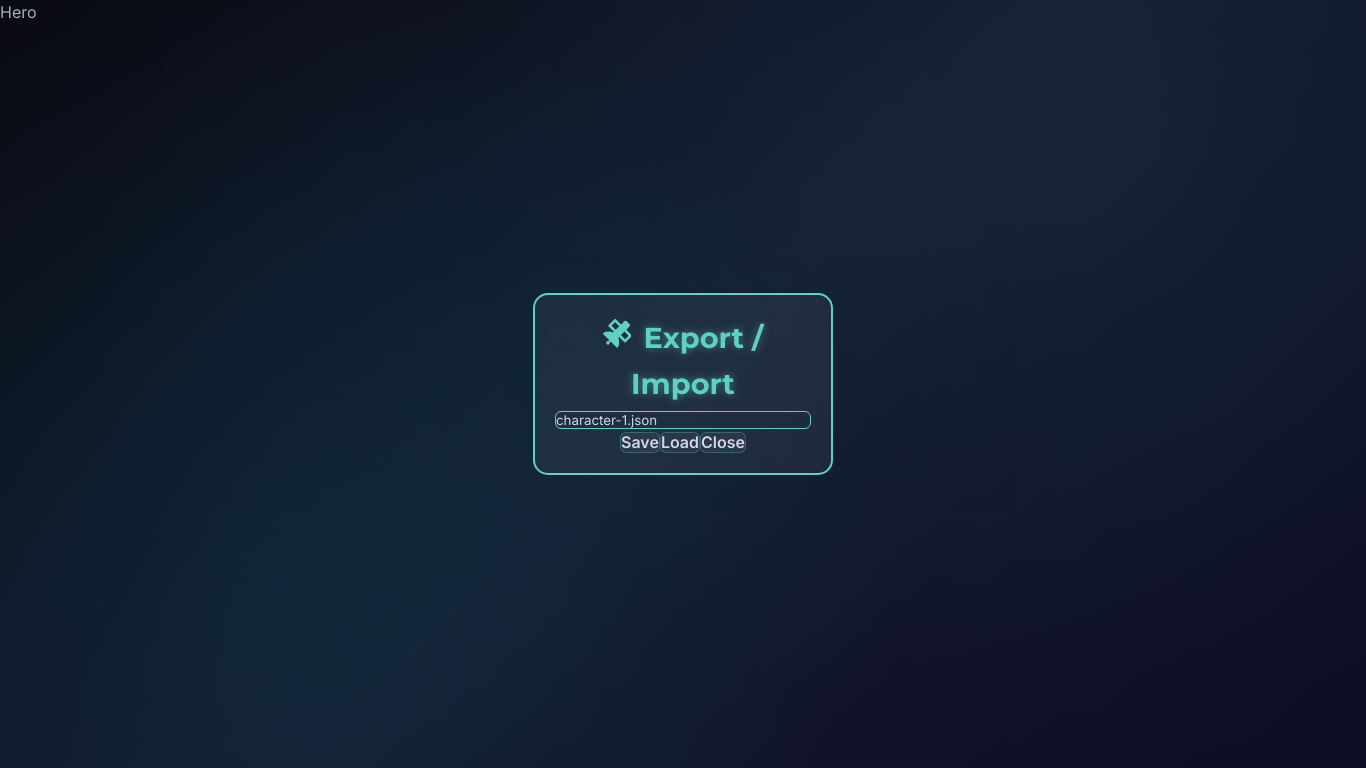
Test: ExportModal › loads character from file
The width and height of the screenshot is (1366, 768).
Click the button "Load" at (680, 443), box [660,432,700,454]
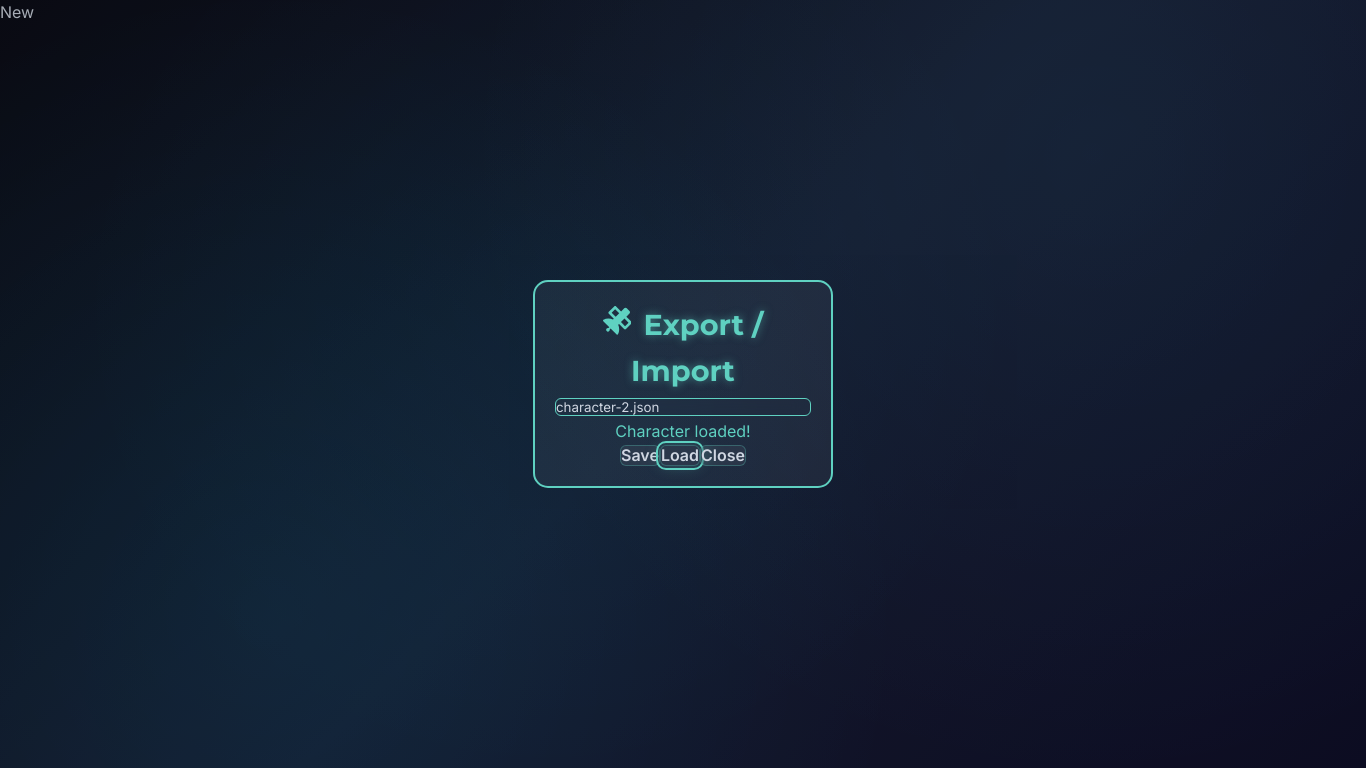
Expected: the text with test id "name" reads "New", [0,2,34,22]
